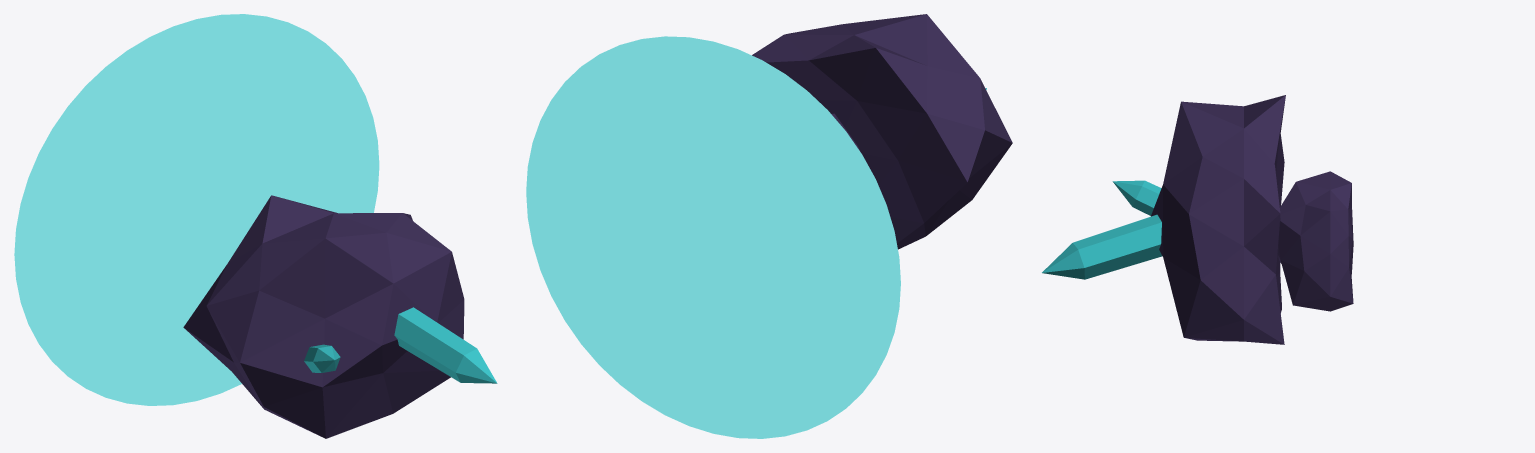
File: rocher_flottant.glb
3 renders of one model, left to right at view 1: azimuth 30°, elevation 25°; view 2: azimuth 150°, elevation 25°; view 3: azimuth 270°, elevation 25°, orthographic. The views are drawn at different scales.
Visible parts, largest first — view 1: lueur, bloc, pointe, pointe2; view 2: lueur, bloc; view 3: bloc, queue, pointe, pointe2.
Boxes of the visible parts, x1=… form: lueur: x1=14, y1=14, x2=379, y2=405; bloc: x1=183, y1=195, x2=464, y2=438; pointe: x1=394, y1=307, x2=497, y2=383; pointe2: x1=304, y1=344, x2=340, y2=372; lueur: x1=526, y1=36, x2=900, y2=438; bloc: x1=752, y1=14, x2=1012, y2=249; bloc: x1=1151, y1=95, x2=1285, y2=344; queue: x1=1277, y1=171, x2=1353, y2=311; pointe: x1=1042, y1=214, x2=1162, y2=279; pointe2: x1=1112, y1=180, x2=1161, y2=215.
Bounding box in the file's own units: 3.2 × 3.2 × 3.6.
